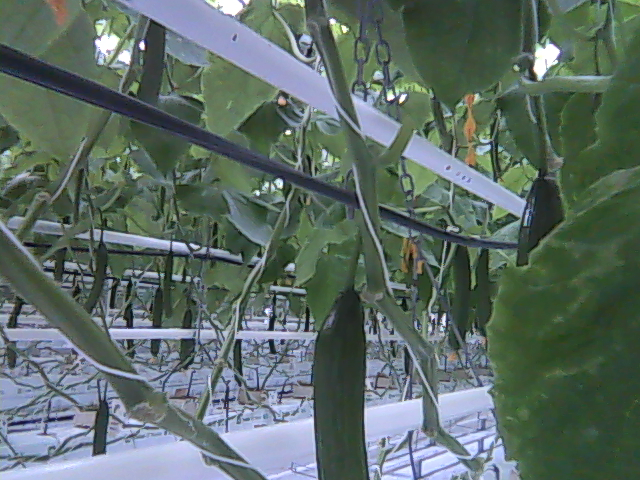concombre: (310, 286, 371, 480), (514, 171, 570, 268)
